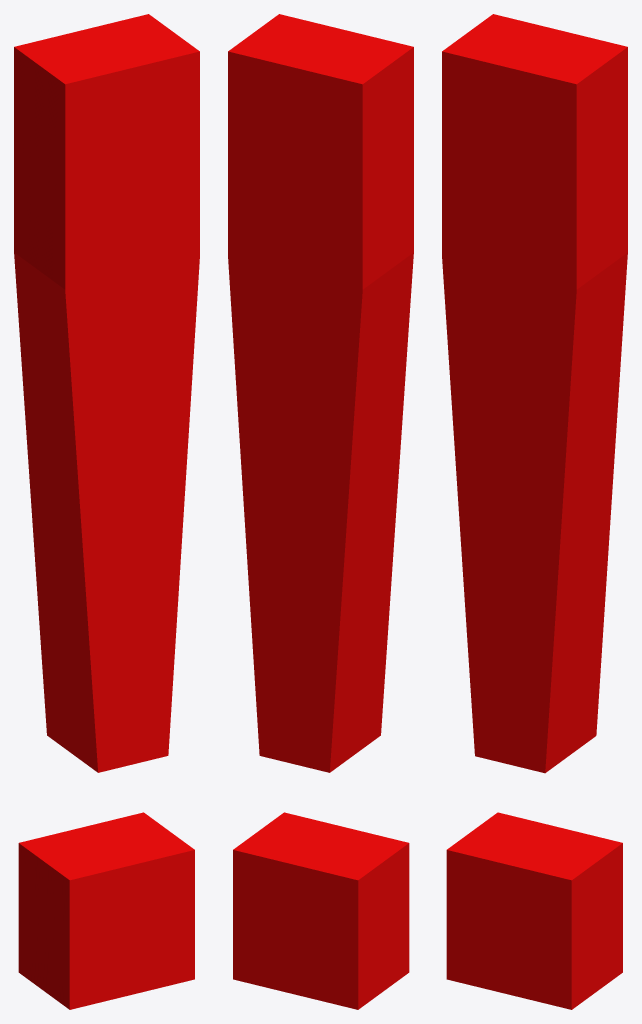
Rendered from Proto_3D_Text_Exclamation_01.fbx.
The picture shows the model from 3 angles, left to right: view 1: azimuth 30°, elevation 25°; view 2: azimuth 150°, elevation 25°; view 3: azimuth 330°, elevation 25°; orthographic projection.
Visible parts, largest first — view 1: Proto_3D_Text_Exclamation_01; view 2: Proto_3D_Text_Exclamation_01; view 3: Proto_3D_Text_Exclamation_01.
Part boxes in pixels (x1,y1,x2,y2): Proto_3D_Text_Exclamation_01: [14, 14, 199, 1009]; Proto_3D_Text_Exclamation_01: [228, 14, 413, 1009]; Proto_3D_Text_Exclamation_01: [442, 14, 627, 1009].
Bounding box in the file's own units: 0.038 × 0.2497 × 0.025.
